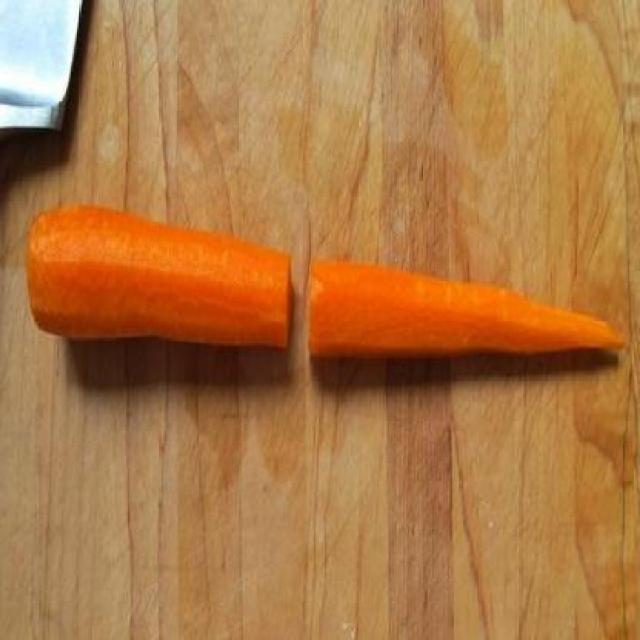carrot: (27, 207, 293, 358), (306, 259, 628, 373)
